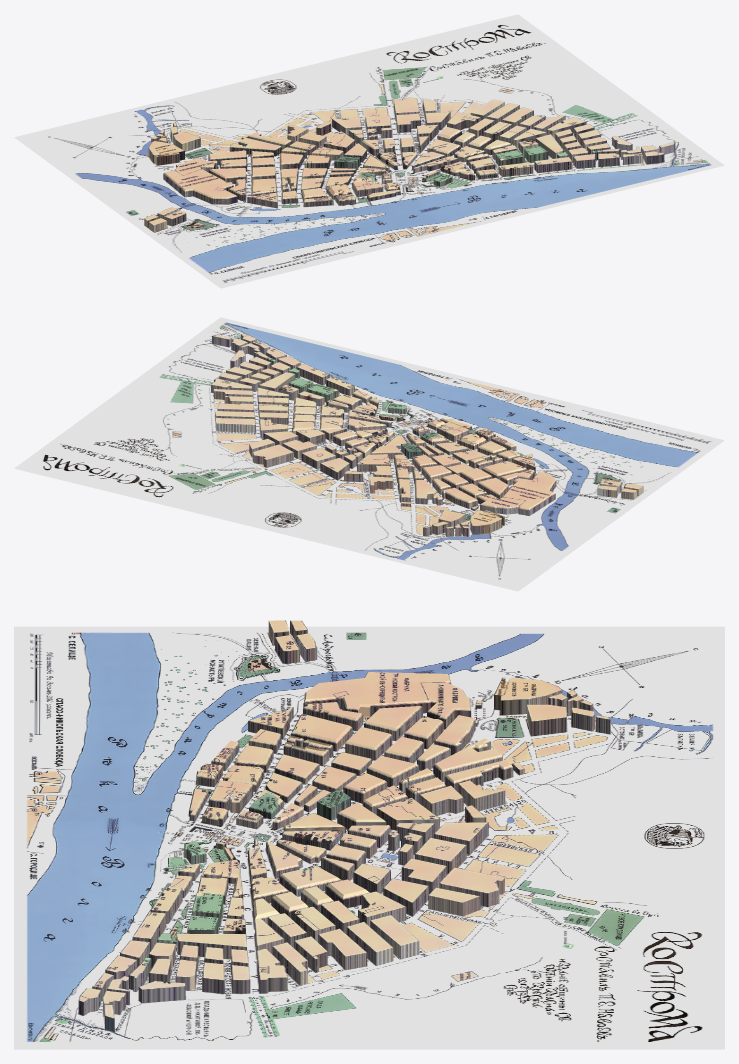
File: kostroma.fbx
3 views of the same model, one above another, from view 1: azimuth 30°, elevation 25°; view 2: azimuth 150°, elevation 25°; view 3: azimuth 270°, elevation 25° (orthographic). The views are drawn at different scales.
Parts seen in each view (by area): view 1: Plane; view 2: Plane; view 3: Plane.
Boxes of the visible parts, x1,y1,x2,y2 form: Plane: (14,14,724,288); Plane: (14,317,724,591); Plane: (14,620,724,1049).
Bounding box in the file's own units: 207 × 3.31 × 147.
